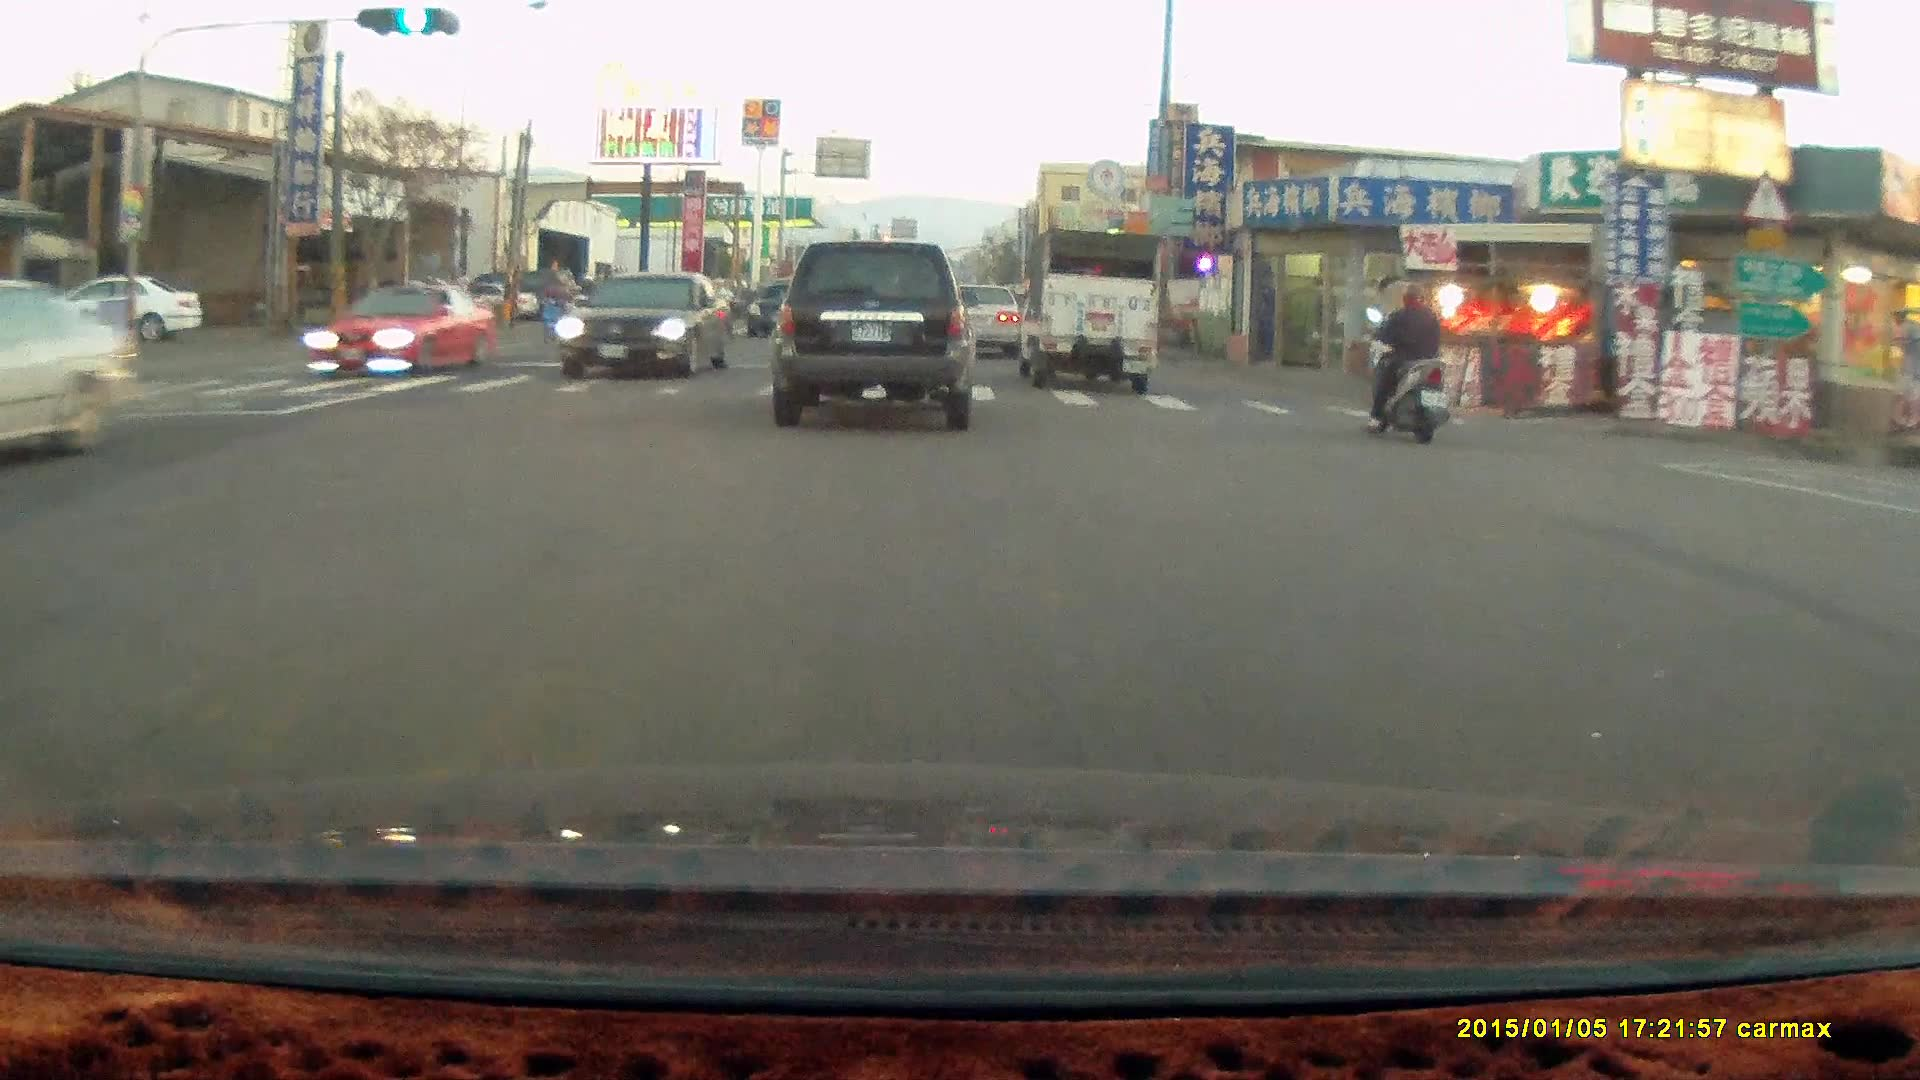rider: (1360, 279, 1449, 445), (533, 278, 572, 343)
vehicle: (767, 240, 981, 430), (1, 280, 142, 480), (1013, 223, 1163, 393), (555, 269, 737, 382), (307, 280, 495, 379), (18, 275, 205, 346), (938, 281, 1021, 358), (957, 285, 1033, 364)
